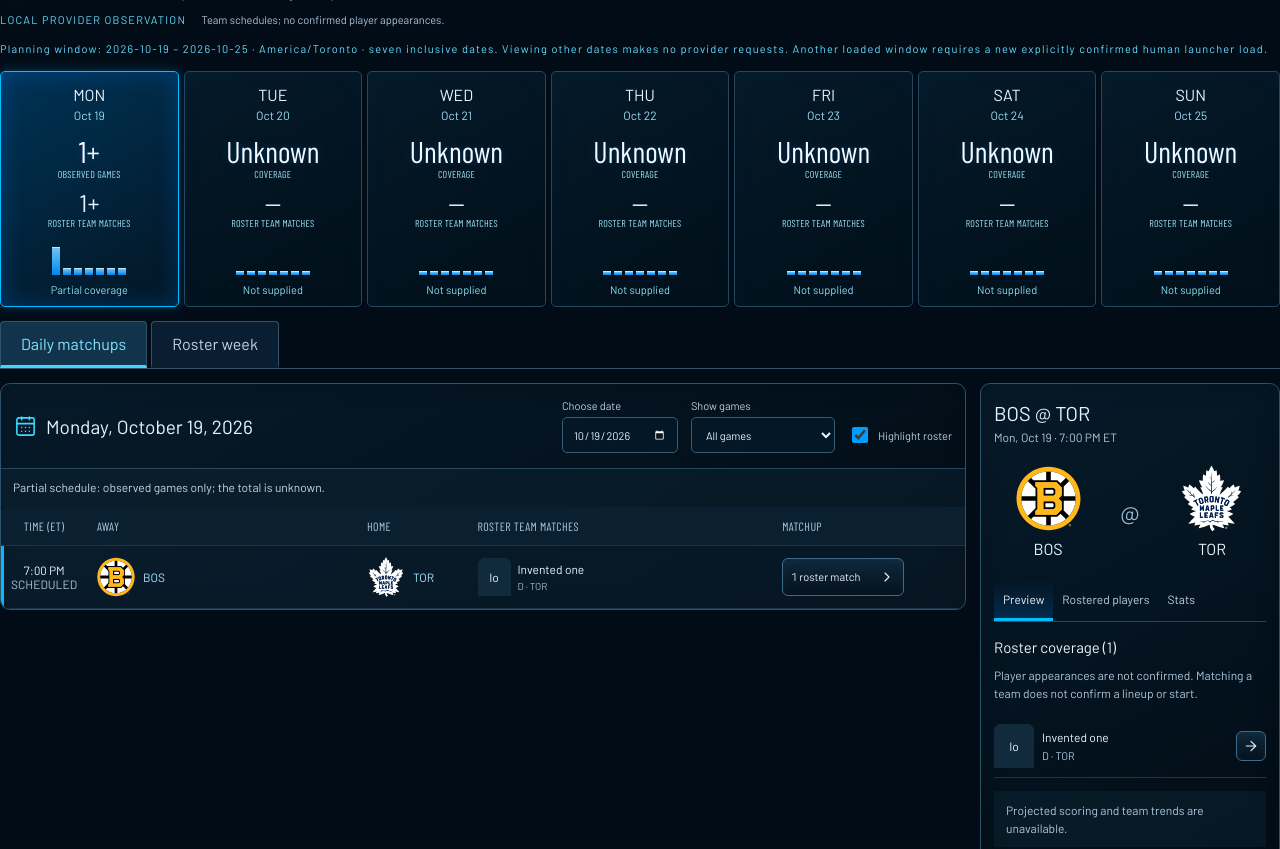
it: keeps missing date coverage and unsupported joins explicit, with keyboard view navigation
Click the tab "Daily matchups": point(74, 345) [0,321,147,368]
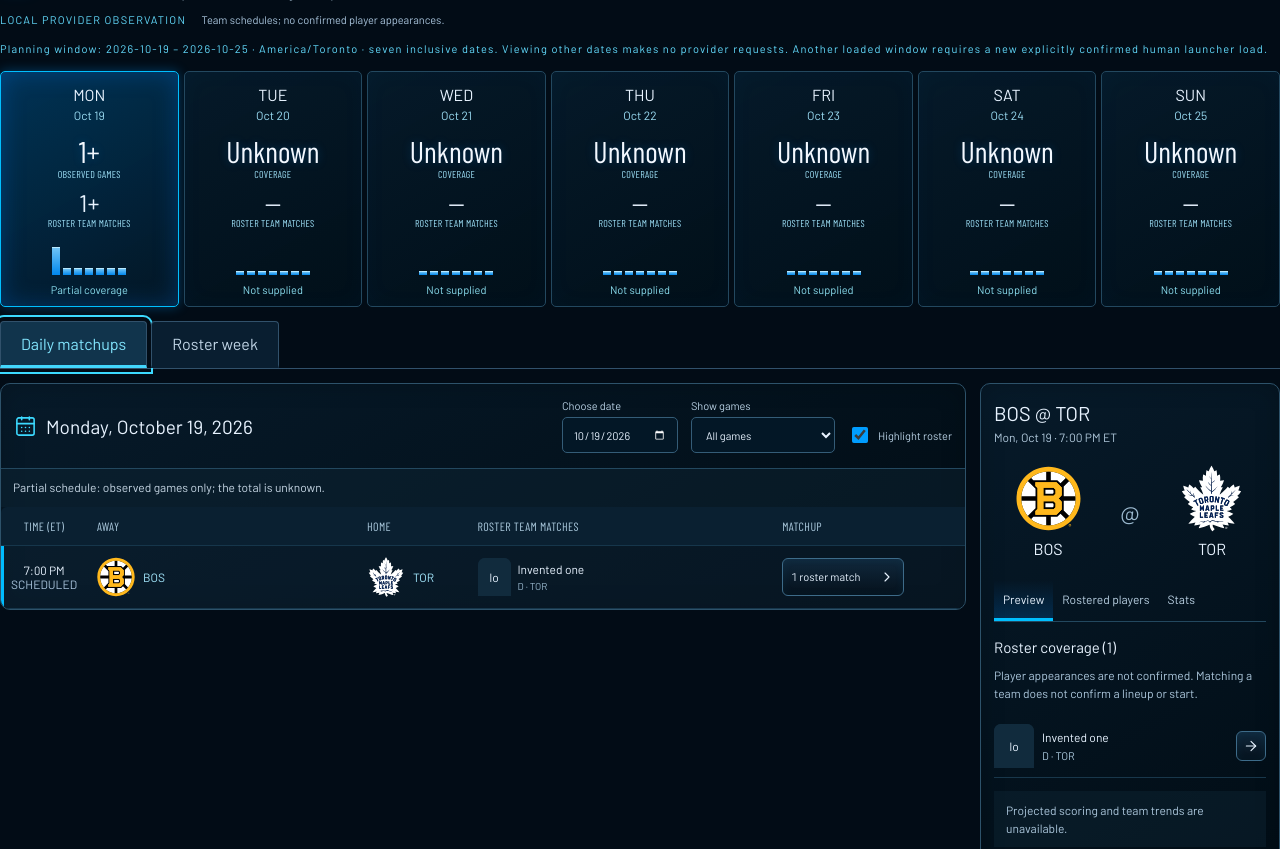
Press Arrowright
(page scrolled)
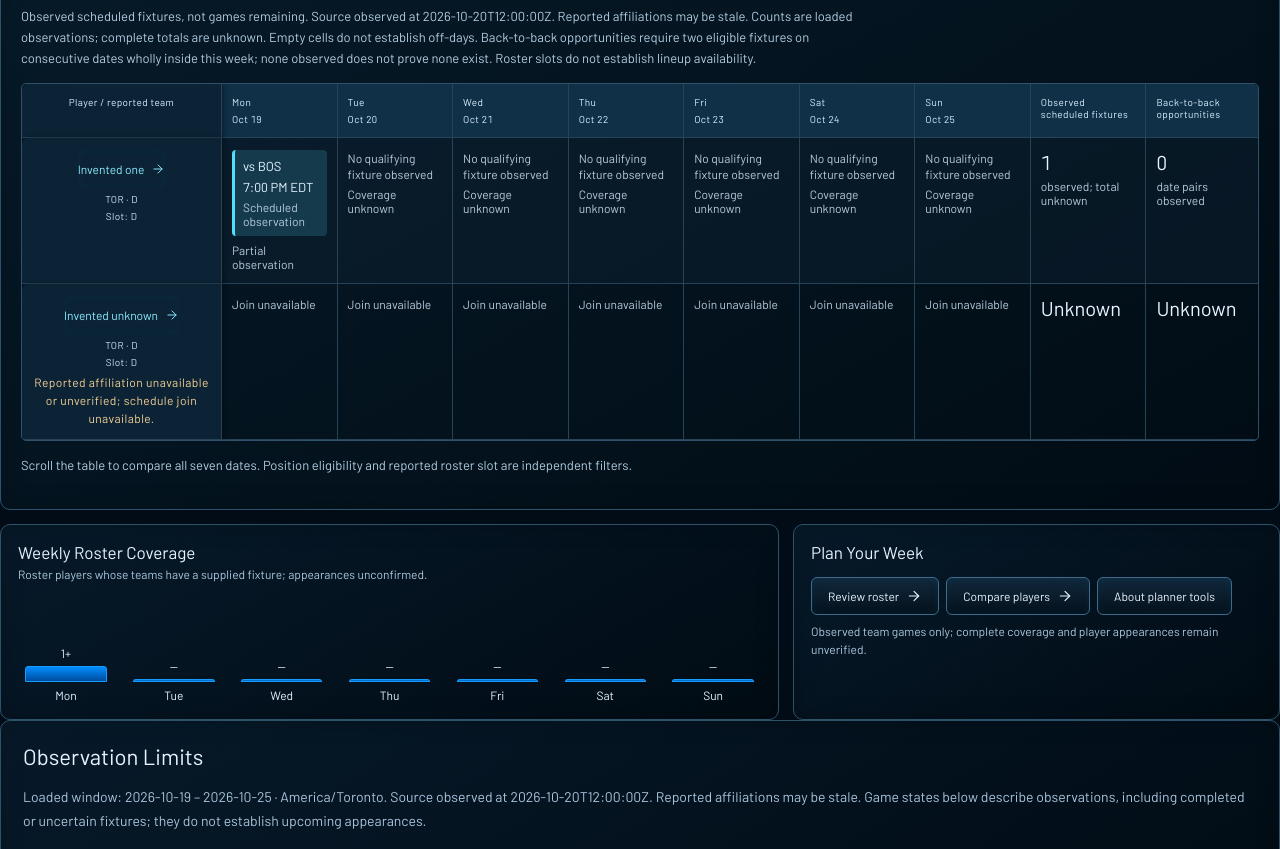
Expected: the text "Source observed at 2026-10-20T12:00:00Z" is shown, [21,8,852,45]
Expected: the text "Coverage unknown" is shown 6 times, [348,187,396,215]; [463,187,512,215]; [579,187,627,215]; [694,187,743,215]; [810,187,858,215]; [925,187,974,215]
Expected: the text "Reported affiliation unavailable or unverified" is shown, [34,375,209,425]
